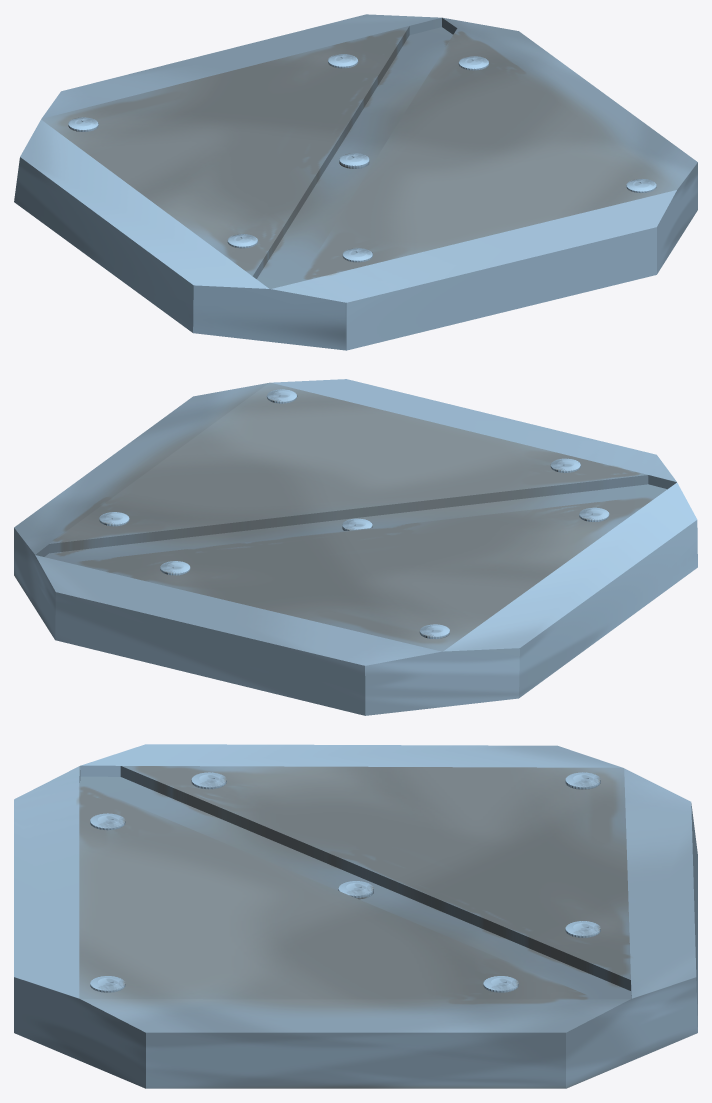
The model's file is plate.fbx.
The picture shows the model from 3 angles, top to bottom: view 1: azimuth 30°, elevation 25°; view 2: azimuth 150°, elevation 25°; view 3: azimuth 270°, elevation 25°; orthographic projection. The views are drawn at different scales.
Visible parts, largest first — view 1: Cube; view 2: Cube; view 3: Cube.
Part boxes in pixels (x1,y1,x2,y2): Cube: (14, 14, 697, 350); Cube: (14, 379, 697, 715); Cube: (14, 744, 697, 1088).
Bounding box in the file's own units: 200 × 21 × 200.
Materials: 8 (8 with a texture image).
